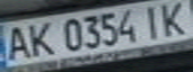0: (57, 15, 84, 52)
3: (78, 11, 103, 50)
4: (115, 6, 142, 43)
5: (100, 9, 124, 46)
A: (0, 23, 33, 62)
I: (136, 2, 169, 39)
K: (154, 0, 193, 36), (21, 19, 57, 57)
